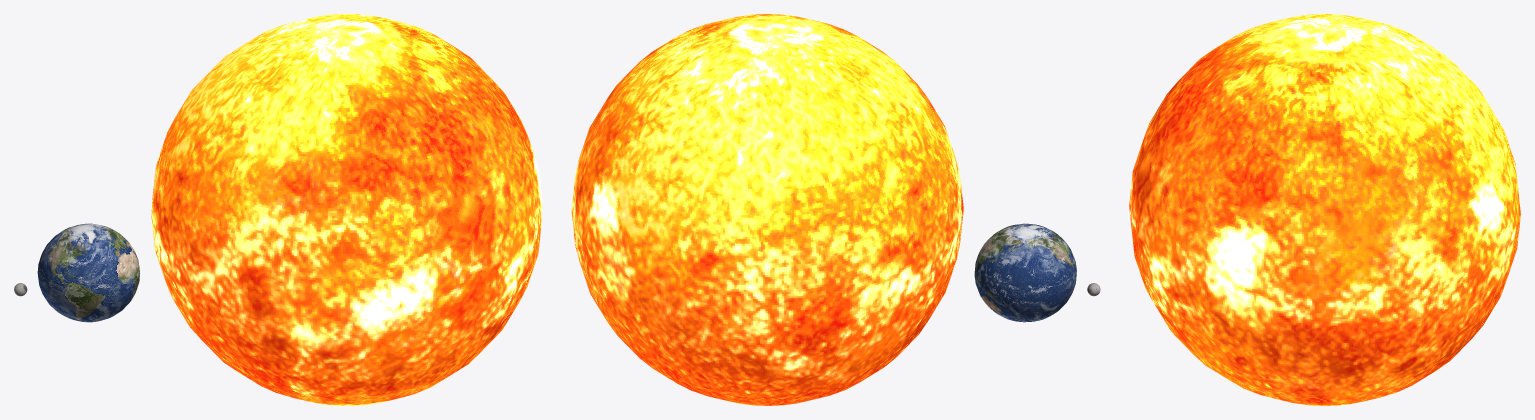
File: ps1_style_low_poly_sun_earth_and_moon_bundle.glb
The picture shows the model from 3 angles, left to right: view 1: azimuth 30°, elevation 25°; view 2: azimuth 150°, elevation 25°; view 3: azimuth 270°, elevation 25°; orthographic projection.
Parts seen in each view (by area): view 1: sun, earth; view 2: sun, earth; view 3: sun.
Part boxes in pixels (x1,y1,x2,y2): sun: [151, 14, 542, 405]; earth: [37, 223, 139, 322]; sun: [571, 14, 963, 405]; earth: [974, 223, 1076, 322]; sun: [1129, 14, 1520, 405].
Size of the model in its own units: 72.09 by 48.83 by 48.76.
Materials: 3 (3 with a texture image).
